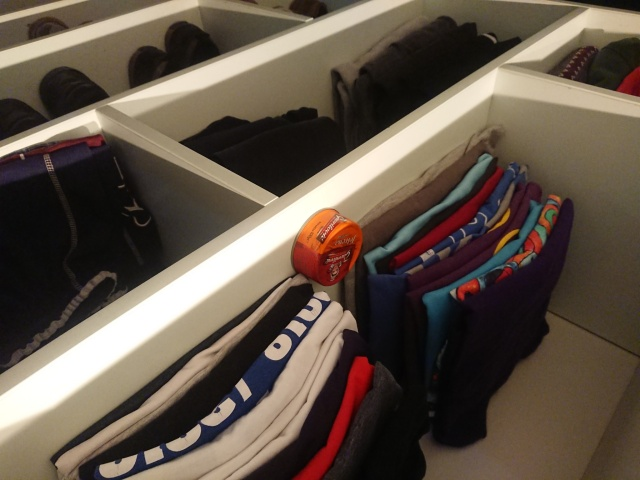Gavrilovic Pork Liver Pate 100g: (288, 205, 365, 288)
